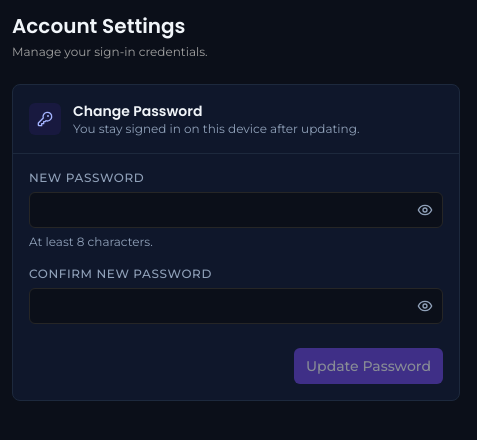
Test: AccountSettings › blocks the request and shows an inline error when passwords do not match
This screenshot has width=477, height=440.
Type "correct-horse-1" into the password field labelled "New Password" at (236, 210), box [29,192,443,228]
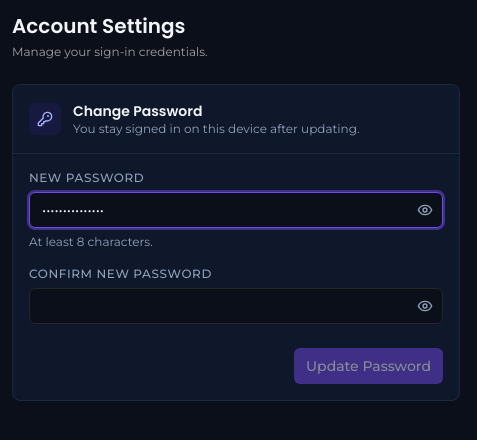
Type "correct-horse-2" into the password field labelled "Confirm New Password" at (236, 306), box [29,288,443,324]
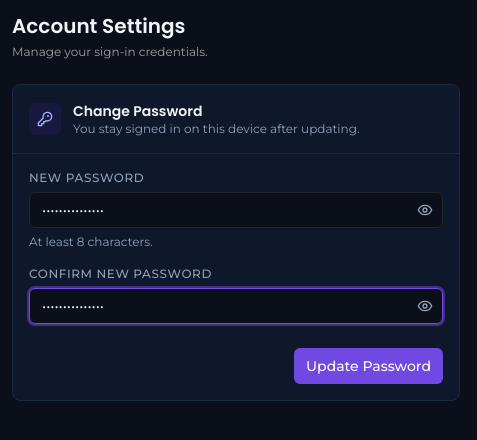
Click the button "Update Password" at (368, 366), box [294,348,443,384]
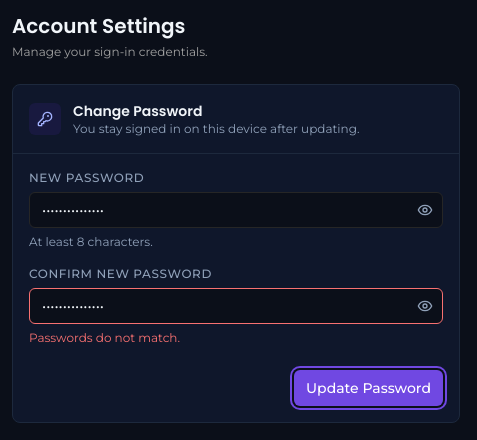
Expected: the text "Passwords do not match." is shown, [29,330,180,345]
